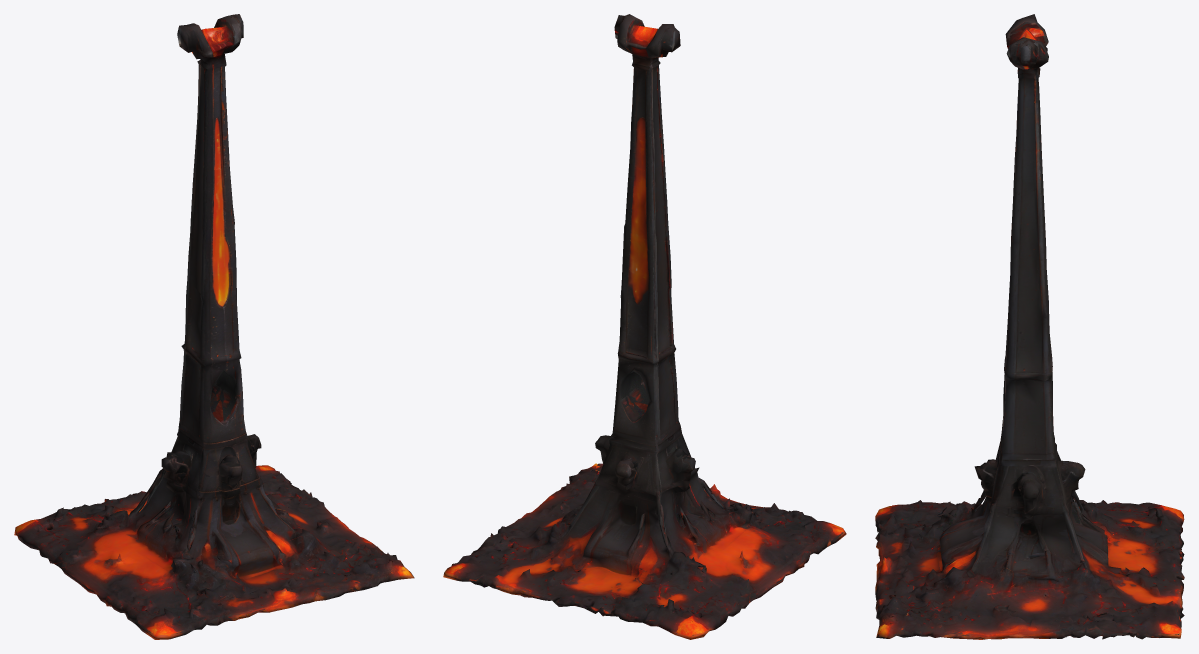
File: Meltingtower.glb
The picture shows the model from 3 angles, left to right: view 1: azimuth 30°, elevation 25°; view 2: azimuth 150°, elevation 25°; view 3: azimuth 270°, elevation 25°; orthographic projection. The views are drawn at different scales.
Bounding box in the file's own units: 1.03 × 2 × 1.02.
Materials: 1 (1 with a texture image).
